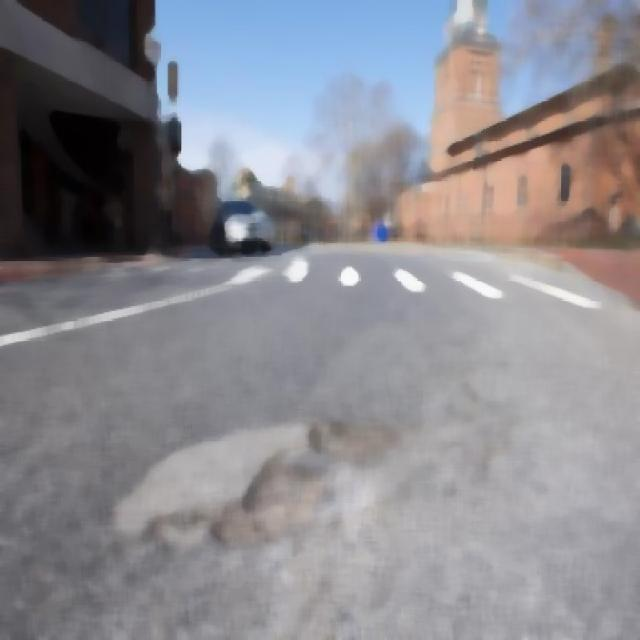pothole: (202, 406, 345, 557)
